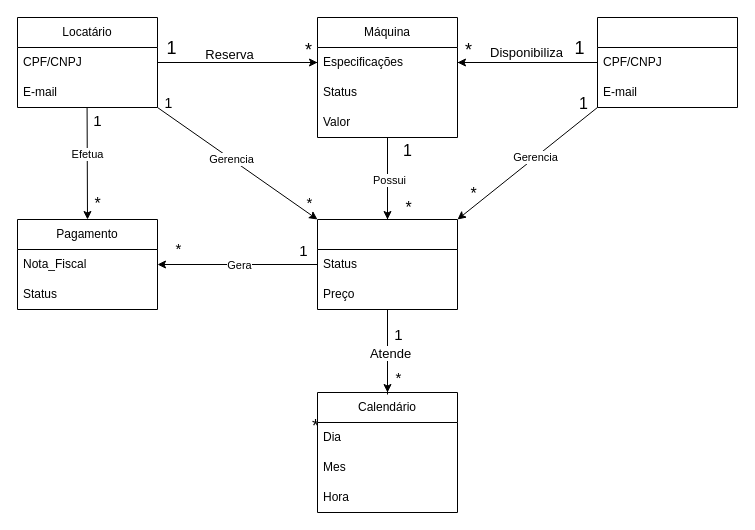
Image size: 755x530. Some labels were removed from this diagram. Here are the shapes that lost their labels. From the top down, the box of each, then its label:
(596, 16, 738, 108): Locador
(316, 218, 458, 310): Agendamento
